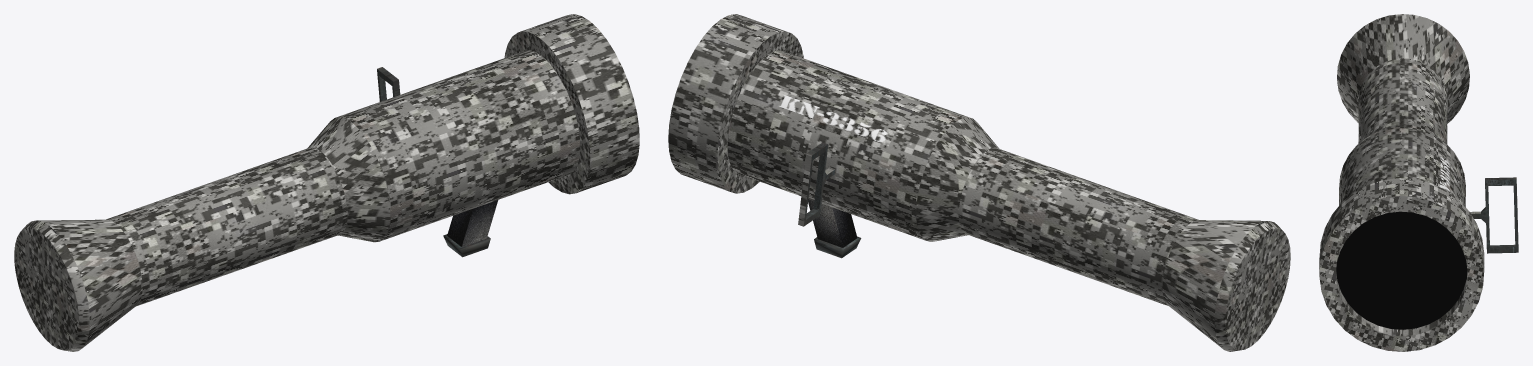
The model's file is launcher_000005.obj.
The picture shows the model from 3 angles, left to right: view 1: azimuth 30°, elevation 25°; view 2: azimuth 150°, elevation 25°; view 3: azimuth 270°, elevation 25°; orthographic projection. The views are drawn at different scales.
Visible parts, largest first — view 1: Cylinder; view 2: Cylinder; view 3: Cylinder.
Boxes of the visible parts, x1,y1,x2,y2 form: Cylinder: (14,14,639,351); Cylinder: (668,14,1290,351); Cylinder: (1319,14,1518,351).
Bounding box in the file's own units: 8.88 × 3.03 × 2.83.
Materials: 1 (1 with a texture image).
